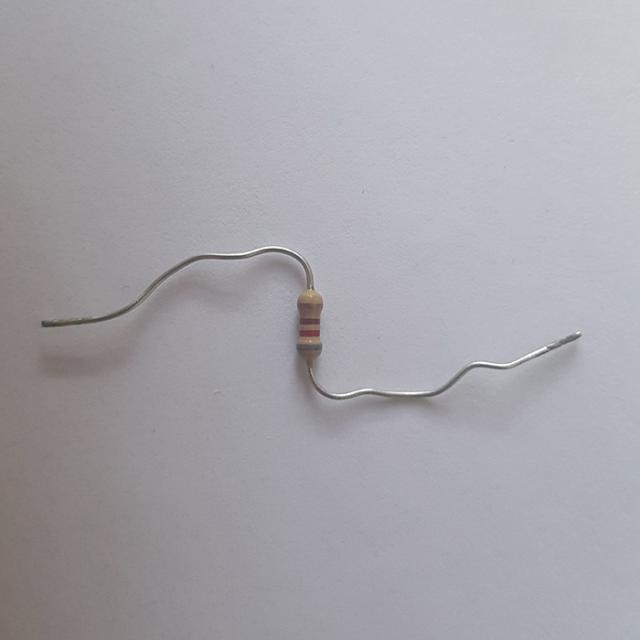brown: (301, 318, 320, 324)
gold: (297, 303, 323, 308)
grey: (298, 343, 320, 349)
red: (301, 331, 319, 335)
resistor: (281, 287, 337, 371)
